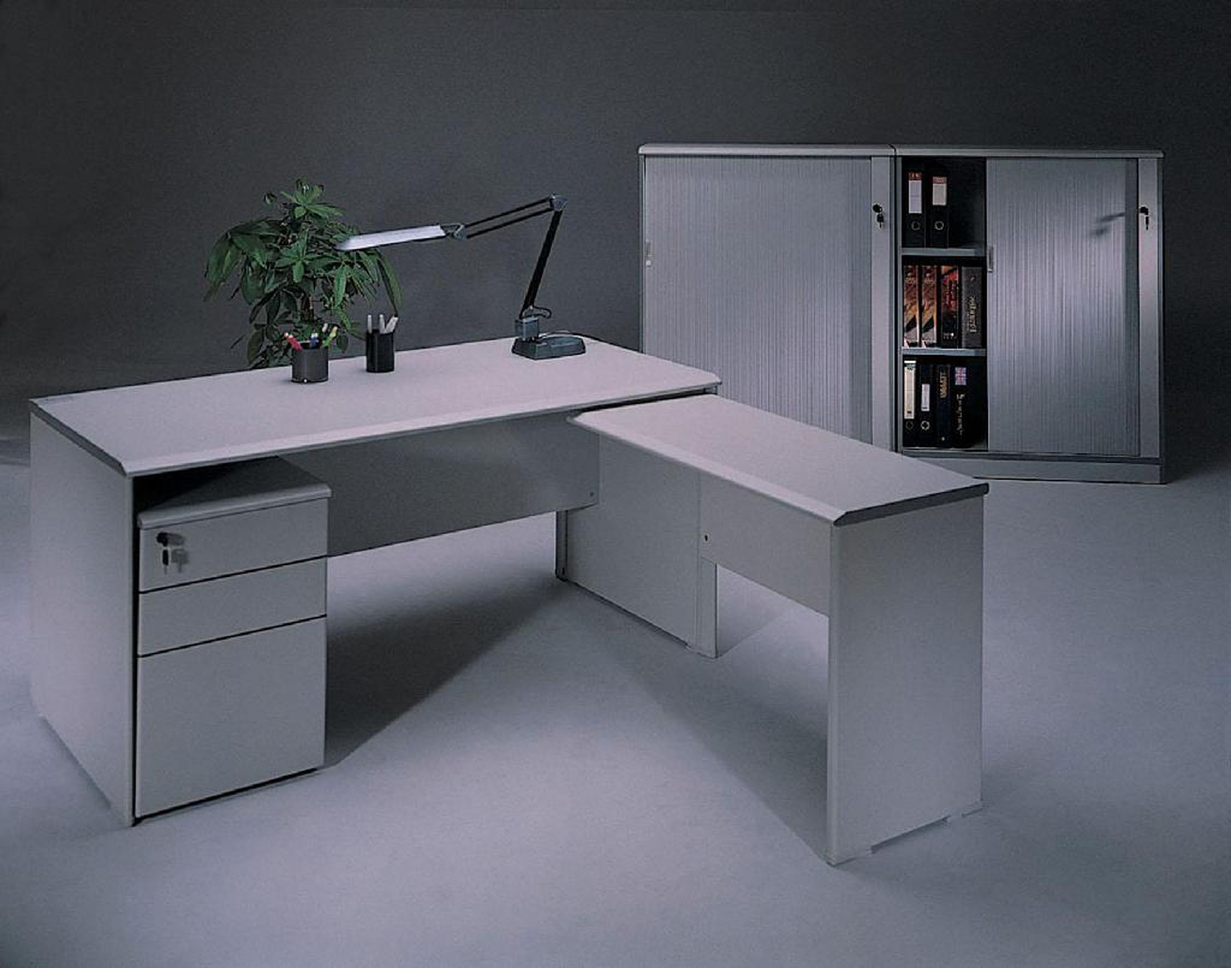not a gesture sign: (0, 430, 1231, 968)
